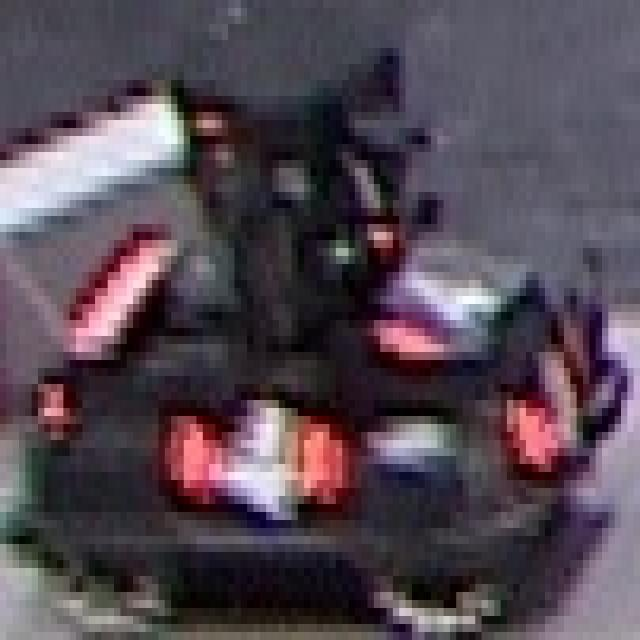R4: (146, 384, 336, 536), (367, 224, 488, 376)
